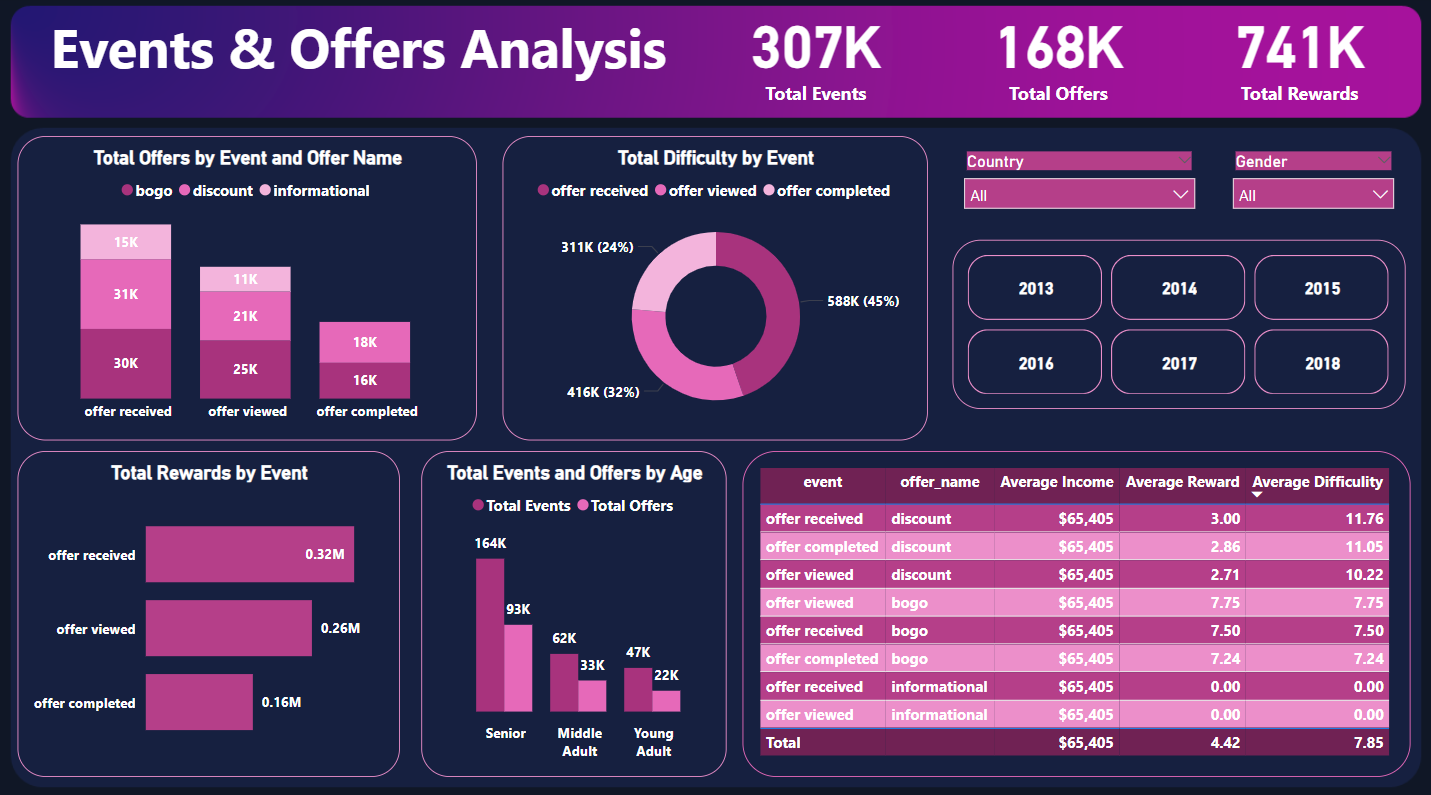

Layout of this report page (visuals, bound fields, positions):
{"tool":"powerbi","page":{"name":"Events & Offers","canvas":[1280,720],"ordinal":2},"visuals":[{"type":"tableEx","fields":{"Values":["events.event","events.offer_name","All Measure.Average Income","All Measure.Average Reward","All Measure.Average Difficulity"]},"box":[662.8,406.2,596.9,290.9],"z":0},{"type":"columnChart","fields":{"Category":["events.event"],"Y":["All Measure.Total Offers"],"Series":["events.offer_name"]},"box":[15.1,124.9,410.3,271.7],"z":1000},{"type":"clusteredBarChart","fields":{"Category":["events.event"],"Y":["All Measure.Total Rewards"]},"box":[15.1,406.2,341.7,290.9],"z":2000},{"type":"donutChart","fields":{"Category":["events.event"],"Y":["All Measure.Total Difficulty"]},"box":[448.7,124.9,380.1,271.7],"z":3000},{"type":"card","fields":{"Values":["All Measure.Total Offers"]},"box":[850.4,0,189.4,100.2],"z":4000},{"type":"card","fields":{"Values":["All Measure.Total Events"]},"box":[634.2,0,189.4,100.2],"z":5000},{"type":"card","fields":{"Values":["All Measure.Total Rewards"]},"box":[1066.5,0,189.4,100.2],"z":6000},{"type":"clusteredColumnChart","title":"Total Events and Offers by Age","fields":{"Category":["customer.Age Class"],"Y":["All Measure.Total Events","All Measure.Total Offers"]},"box":[376,406.2,273.1,290.9],"z":7000},{"type":"textbox","box":[39.8,8.2,579.1,86.4],"z":8000},{"type":"advancedSlicerVisual","fields":{"Values":["offers.channels"]},"box":[850.8,218.2,404.8,150.9],"z":9000},{"type":"slicer","fields":{"Values":["customer.gender"]},"box":[1090.9,134.5,164.7,65.9],"z":10000},{"type":"slicer","fields":{"Values":["customer.Country"]},"box":[850.8,134.5,226.4,65.9],"z":11000}]}

Visuals, with their boxes in screenshot pixels (x1, y1, x2, y2), scaled from the page's 1280x720 canvas onto the 1431x795 screenshot:
tableEx - events.event x events.offer_name: 741/449/1408/770
columnChart - events.event x All Measure.Total Offers: 17/138/476/438
clusteredBarChart - events.event x All Measure.Total Rewards: 17/449/399/770
donutChart - events.event x All Measure.Total Difficulty: 502/138/927/438
card - All Measure.Total Offers: 951/0/1162/111
card - All Measure.Total Events: 709/0/921/111
card - All Measure.Total Rewards: 1192/0/1404/111
"Total Events and Offers by Age" clusteredColumnChart: 420/449/726/770
textbox: 44/9/692/104
advancedSlicerVisual - offers.channels: 951/241/1404/408
slicer - customer.gender: 1220/149/1404/221
slicer - customer.Country: 951/149/1204/221
